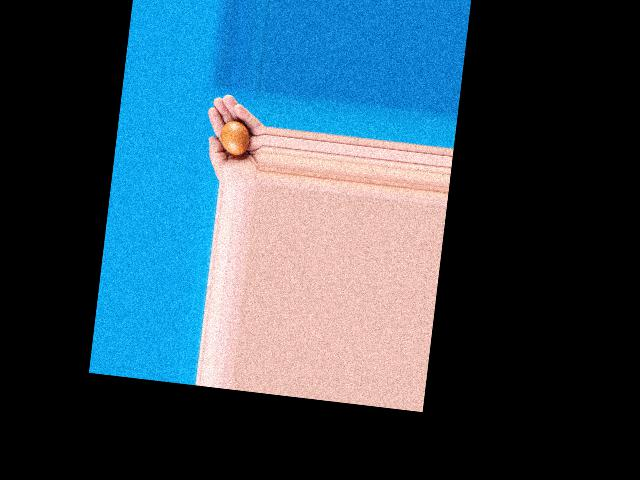egg: (219, 118, 251, 155)
